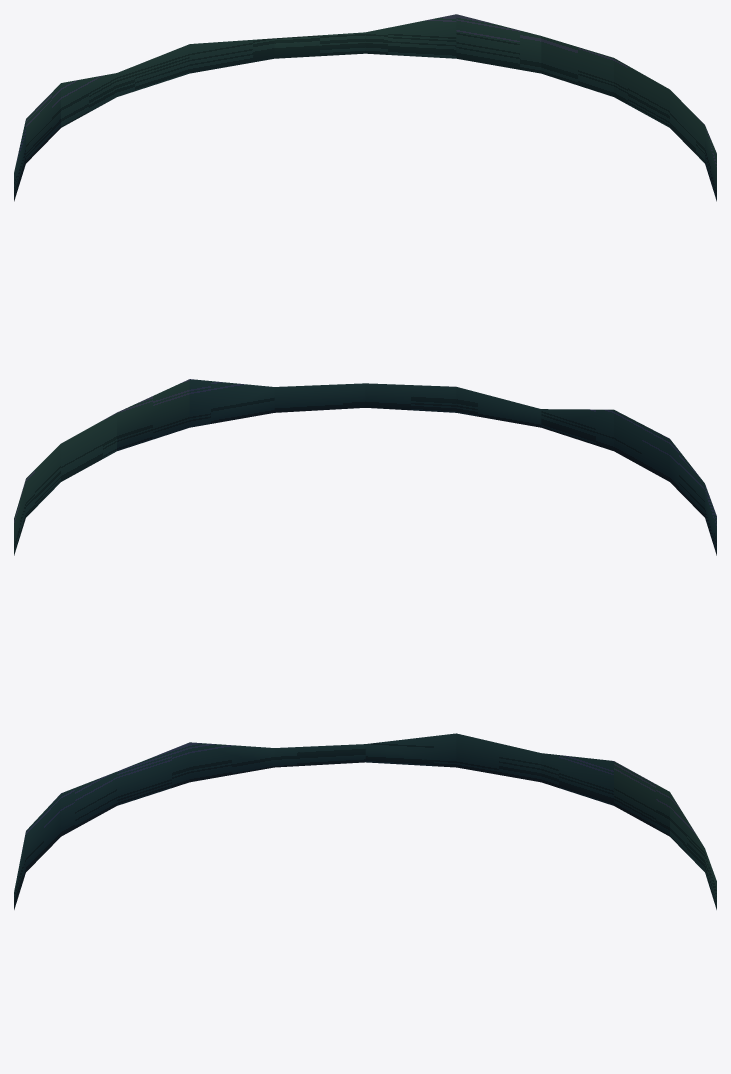
The model's file is mter.backdrop__hills.glb.
3 views of the same model, one above another, from view 1: azimuth 30°, elevation 25°; view 2: azimuth 150°, elevation 25°; view 3: azimuth 270°, elevation 25° (orthographic).
Parts seen in each view (by area): view 1: kit_shell_vista; view 2: kit_shell_vista; view 3: kit_shell_vista.
Part boxes in pixels (<box>): kit_shell_vista: <box>14,14,716,201</box>; kit_shell_vista: <box>14,379,716,555</box>; kit_shell_vista: <box>14,733,716,909</box>.
Size of the model in its own units: 520 by 39.72 by 520.
1 material, 1 textured.
